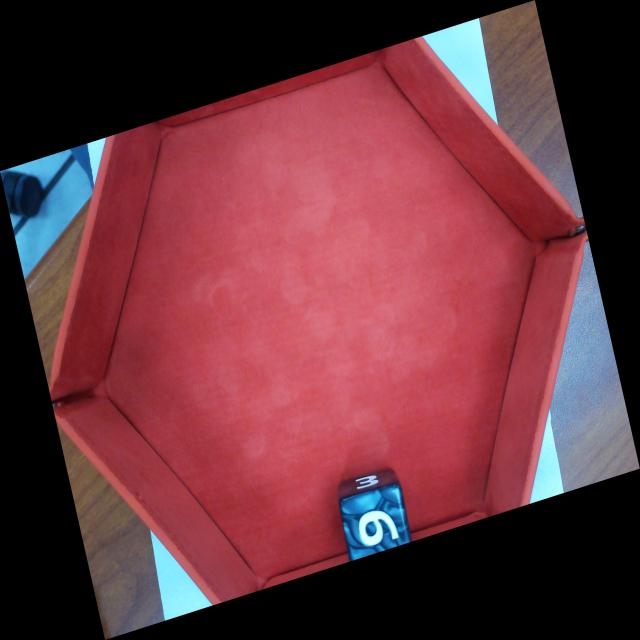dice: (337, 480, 412, 562)
